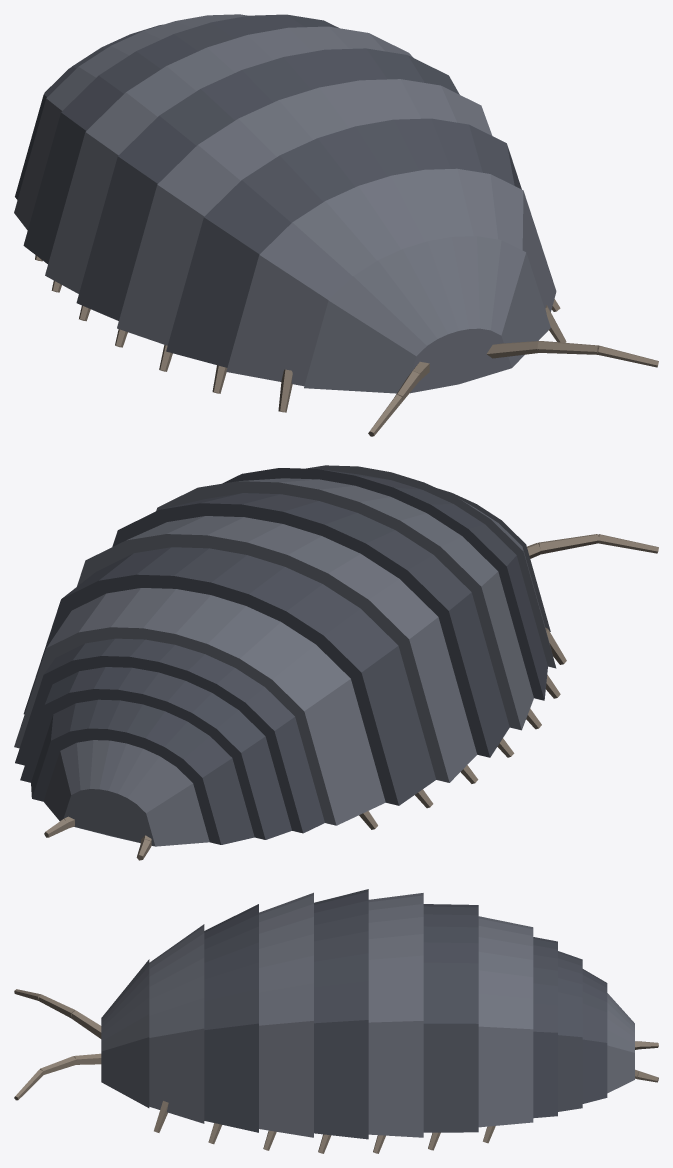
The model's file is pillbug_unrolled.glb.
The picture shows the model from 3 angles, top to bottom: view 1: azimuth 30°, elevation 25°; view 2: azimuth 150°, elevation 25°; view 3: azimuth 270°, elevation 25°; orthographic projection. The views are drawn at different scales.
Visible parts, largest first — view 1: shell_light, shell_dark, legs; view 2: shell_dark, shell_light, legs; view 3: shell_light, shell_dark, legs.
Boxes of the visible parts, x1=… form: shell_light: x1=14, y1=14, x2=556, y2=393; shell_dark: x1=15, y1=14, x2=521, y2=367; legs: x1=35, y1=255, x2=658, y2=436; shell_dark: x1=15, y1=468, x2=547, y2=844; shell_light: x1=14, y1=465, x2=556, y2=846; legs: x1=44, y1=534, x2=658, y2=860; shell_light: x1=101, y1=892, x2=634, y2=1137; shell_dark: x1=204, y1=889, x2=607, y2=1139; legs: x1=14, y1=989, x2=658, y2=1153.
Size of the model in its own units: 1.33 by 0.676 by 2.35.
